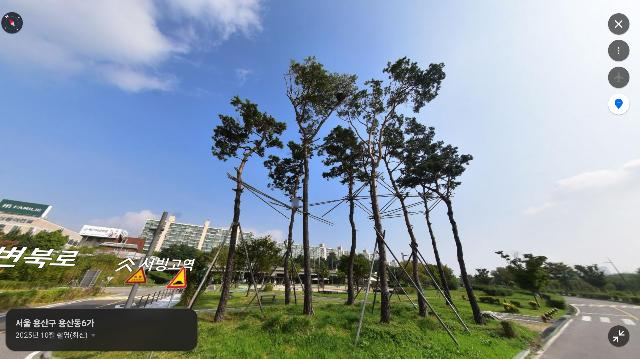other: (341, 56, 447, 324), (283, 55, 361, 317), (211, 95, 288, 324), (412, 141, 483, 326), (379, 114, 438, 318), (393, 141, 454, 319), (319, 125, 370, 307), (262, 141, 305, 307), (494, 251, 554, 310)
